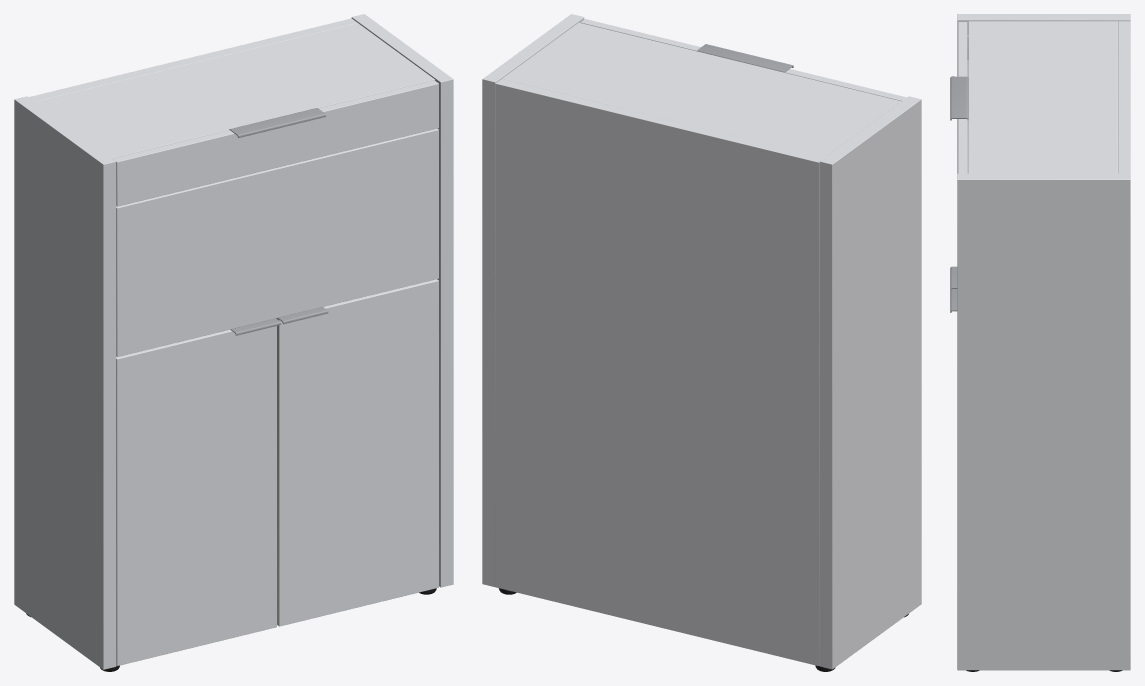
Rendered from desk_B07K7663DW.glb.
3 renders of one model, left to right at view 1: azimuth 30°, elevation 25°; view 2: azimuth 150°, elevation 25°; view 3: azimuth 270°, elevation 25°, orthographic. The views are drawn at different scales.
Parts seen in each view (by area): view 1: B07K7663DW; view 2: B07K7663DW; view 3: B07K7663DW.
Part boxes in pixels (x1,y1,x2,y2): B07K7663DW: [14, 14, 453, 671]; B07K7663DW: [482, 14, 921, 671]; B07K7663DW: [950, 14, 1130, 671].
Size of the model in its own units: 0.85 by 1.19 by 0.39.
Materials: 1 (1 with a texture image).
